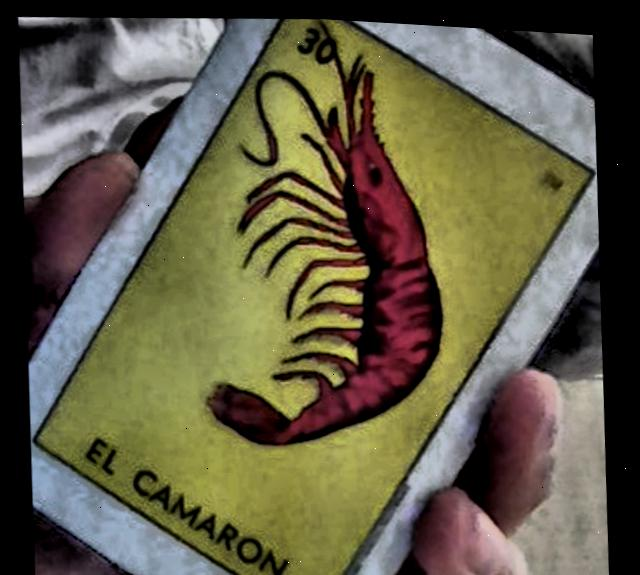El Camaron: (38, 15, 597, 575)
